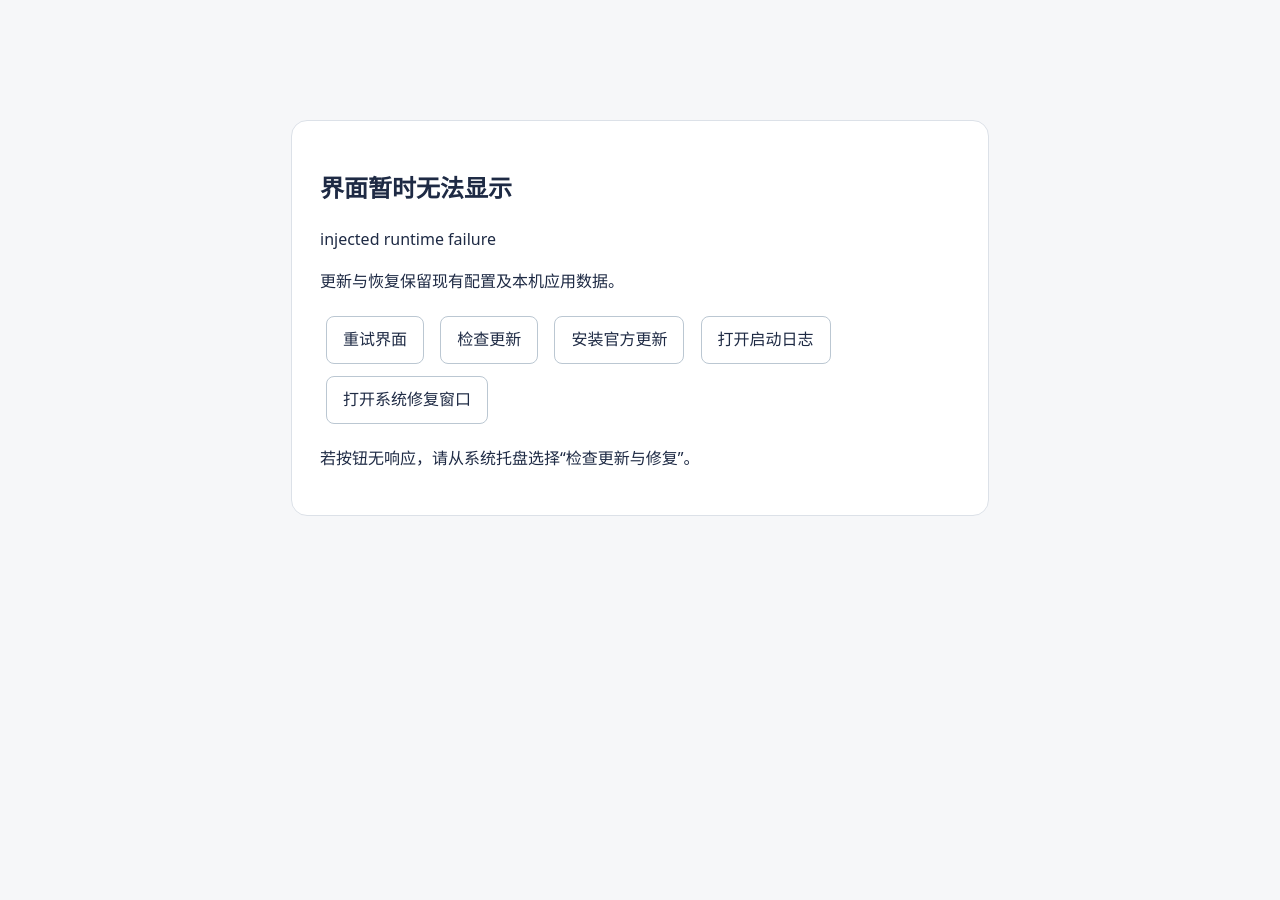
complete desktop startup and independent recovery › keeps recovery visible and retryable after an update-network error
The width and height of the screenshot is (1280, 900).
Click the button with id "recovery-check" at (489, 340), box top-left (440, 316), bottom-right (538, 364)
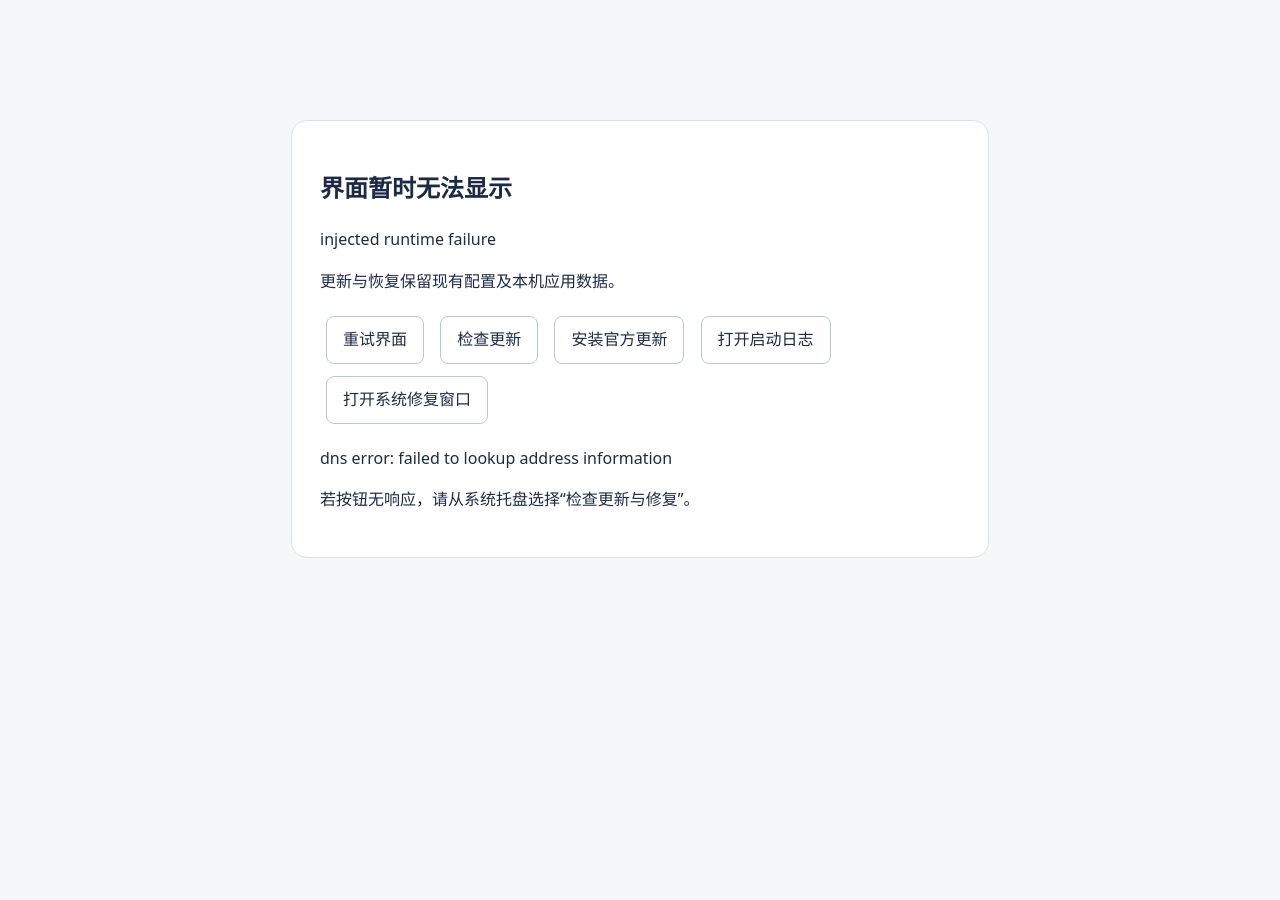
Check: the message with id "recovery-status" shows "dns error", box top-left (320, 447), bottom-right (672, 469)
Click the button with id "recovery-check" at (489, 340), box top-left (440, 316), bottom-right (538, 364)
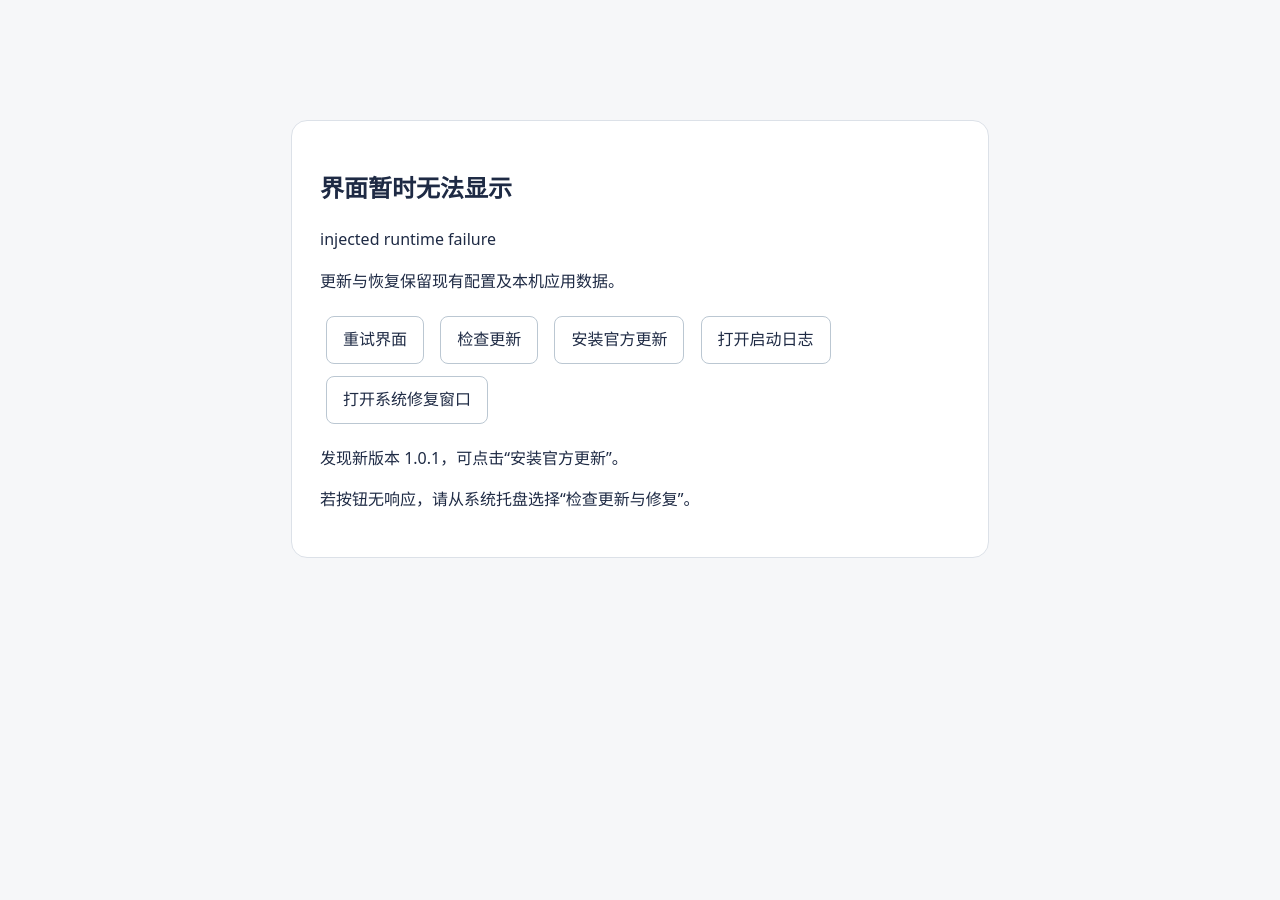
Check: the message with id "recovery-status" shows "发现新版本", box top-left (320, 447), bottom-right (628, 469)
